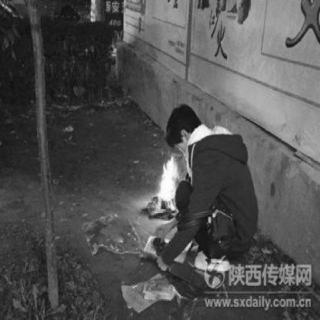other: (187, 120, 263, 254), (151, 238, 197, 282)
